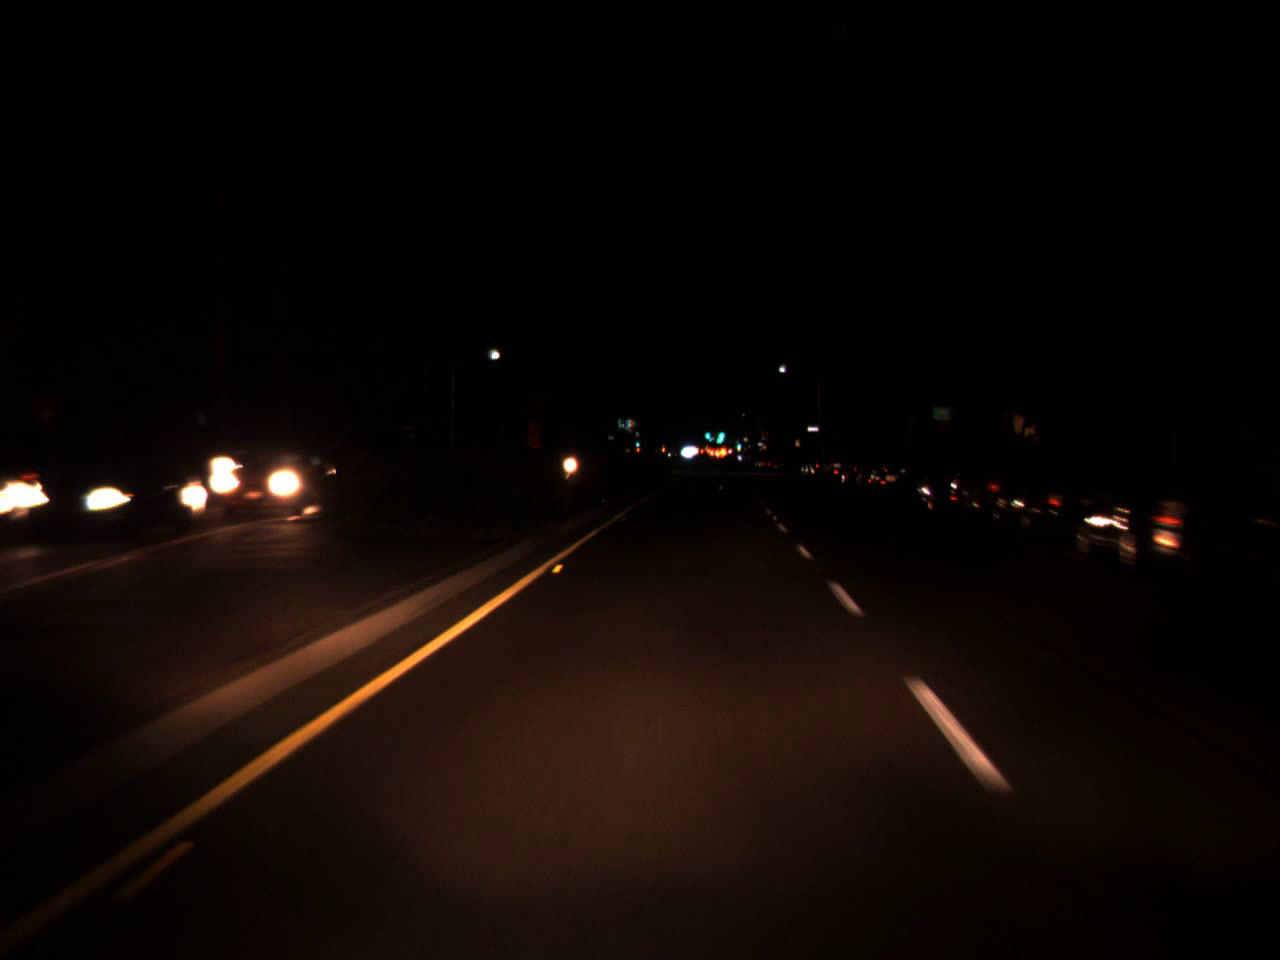go: (715, 424, 725, 439), (701, 423, 710, 441), (632, 436, 641, 448), (735, 435, 742, 450)
